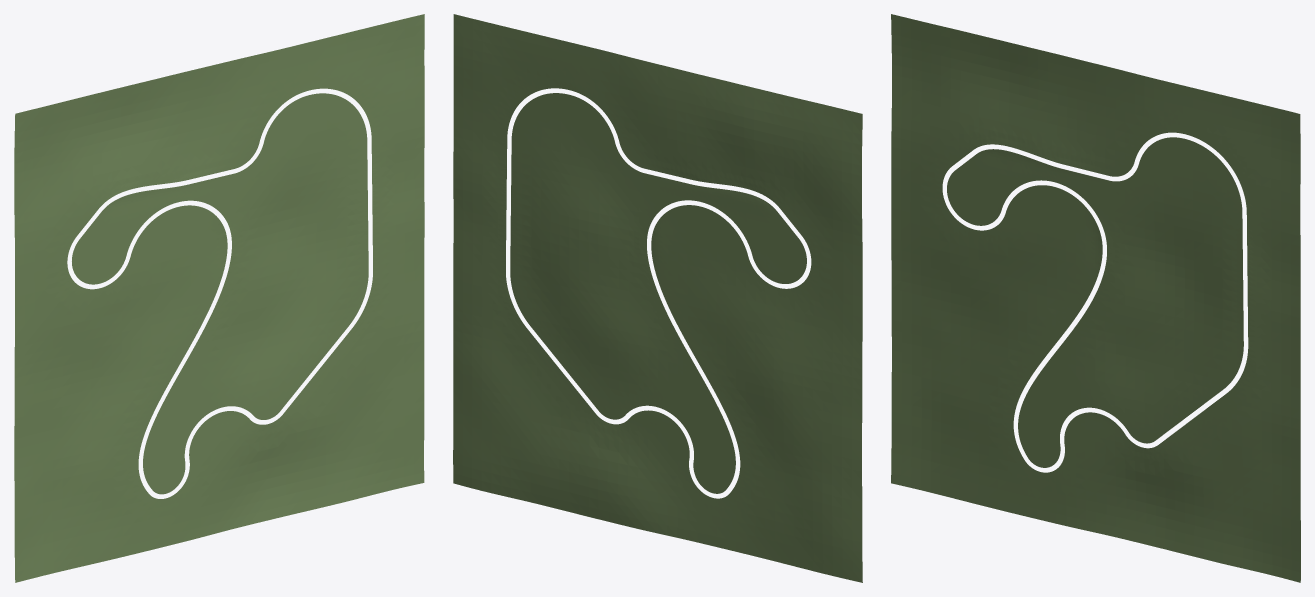
File: Route_8.obj
3 renders of one model, left to right at view 1: azimuth 30°, elevation 25°; view 2: azimuth 150°, elevation 25°; view 3: azimuth 330°, elevation 25°, orthographic.
Visible parts, largest first — view 1: Background; view 2: Background; view 3: Background.
Part boxes in pixels (box(x1,y1,x2,y2)): Background: box(14, 14, 424, 582); Background: box(453, 14, 862, 582); Background: box(891, 14, 1300, 582).
Size of the model in its own units: 1680 by 1840 by 15.22.
